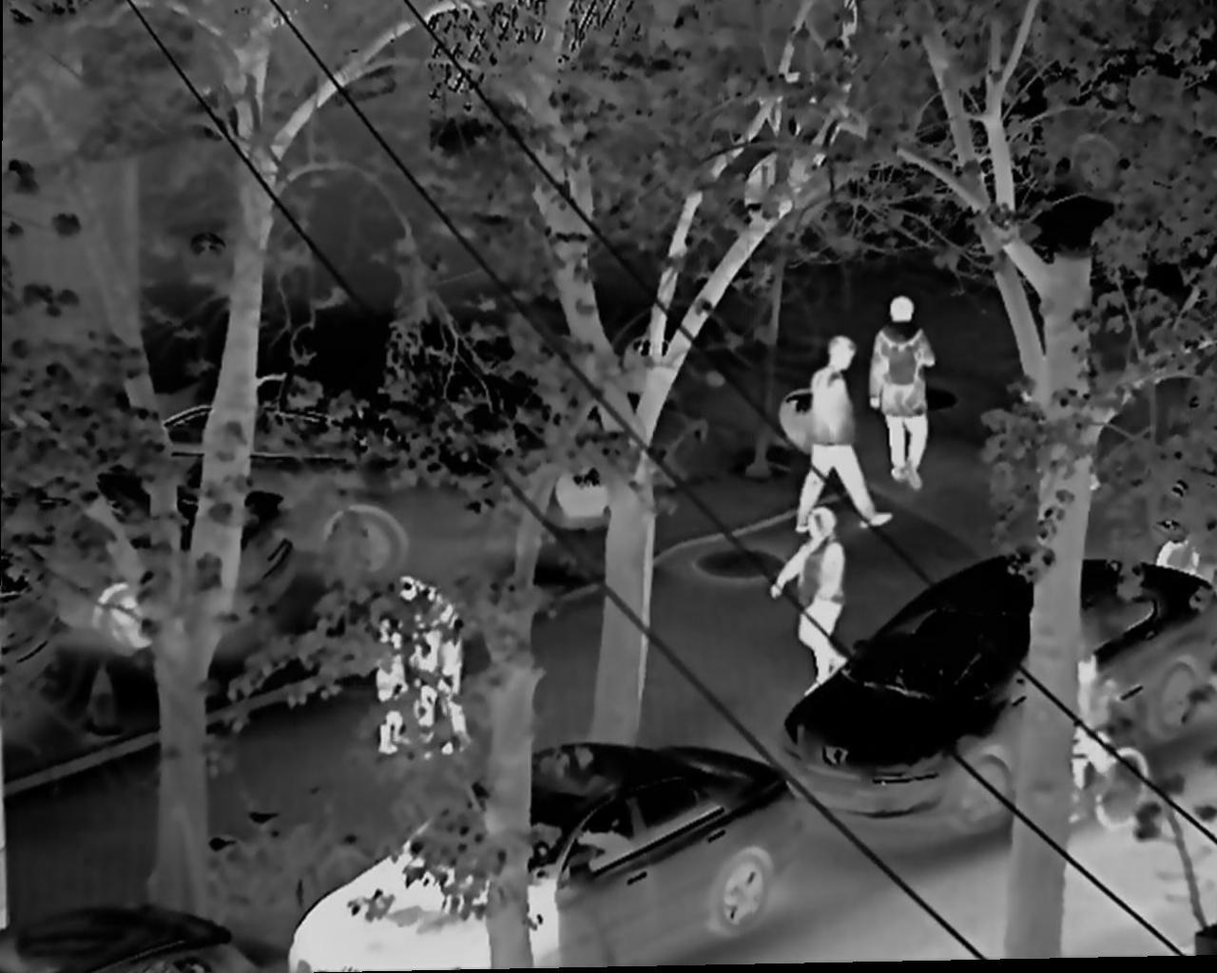person: (785, 324, 892, 528), (773, 508, 847, 710), (397, 575, 472, 761), (870, 286, 932, 498), (1060, 642, 1124, 834), (366, 602, 407, 757), (1157, 523, 1203, 639)
